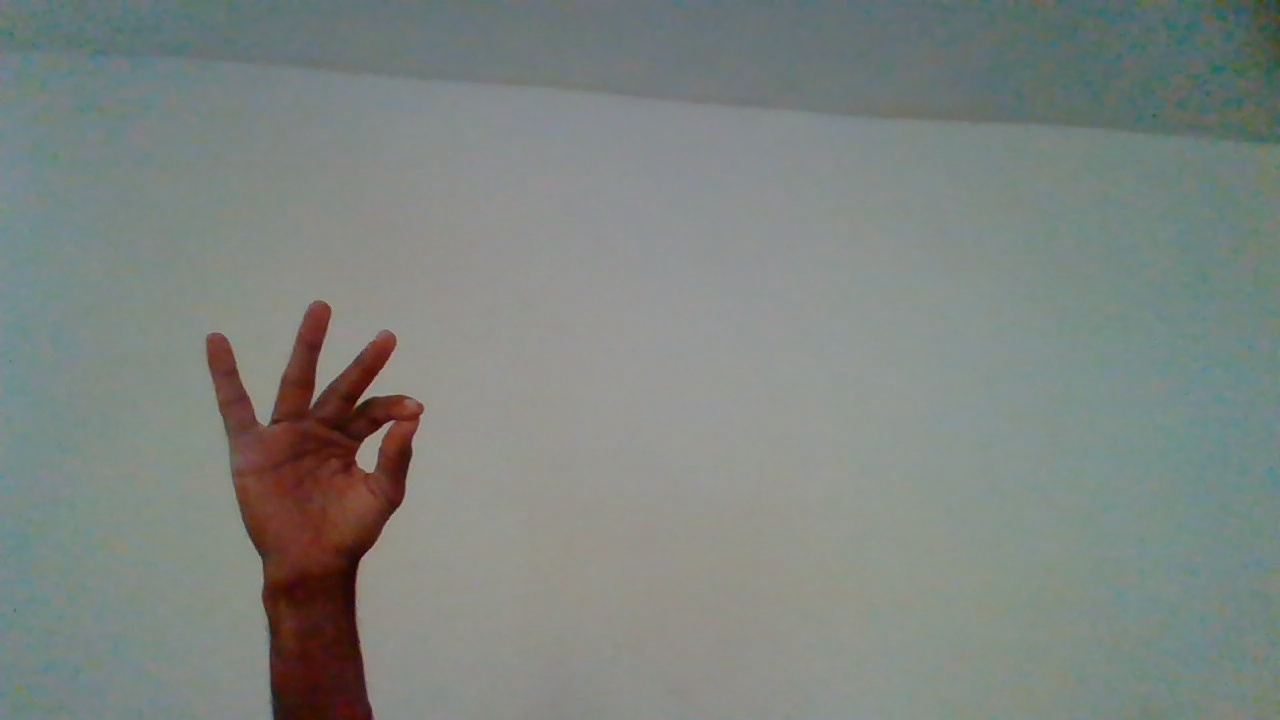le: (201, 303, 423, 694)
